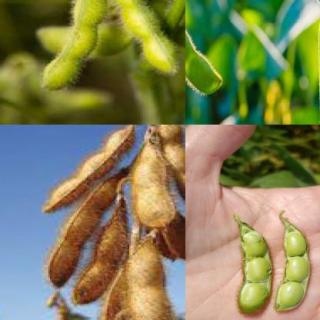soya: (45, 175, 119, 287), (45, 127, 136, 212), (42, 0, 110, 89), (105, 0, 179, 75), (75, 217, 128, 305), (124, 243, 184, 319), (233, 215, 272, 313), (185, 0, 223, 98), (132, 145, 176, 228), (276, 222, 311, 310), (35, 29, 130, 56), (159, 125, 185, 212), (149, 0, 185, 55)
